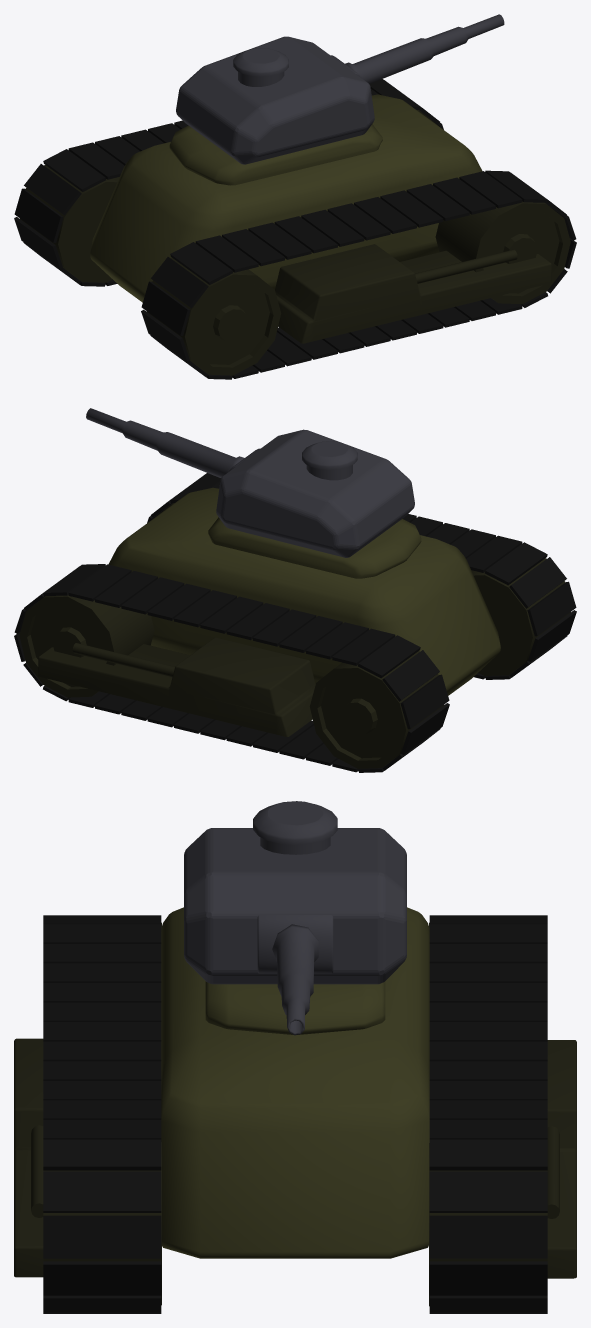
Rendered from Tank.FBX.
3 views of the same model, one above another, from view 1: azimuth 30°, elevation 25°; view 2: azimuth 150°, elevation 25°; view 3: azimuth 270°, elevation 25° (orthographic). The views are drawn at different scales.
Parts seen in each view (by area): view 1: Line030, Line031, Line032, Line028; view 2: Line030, Line031, Line032, Line028; view 3: Line032, Line031, Line028, Line030.
Boxes of the visible parts, x1,y1,x2,y2 form: Line030: [20, 110, 570, 375]; Line031: [90, 94, 482, 302]; Line032: [14, 79, 576, 379]; Line028: [176, 14, 504, 164]; Line030: [19, 503, 570, 768]; Line031: [108, 487, 500, 695]; Line032: [14, 473, 576, 772]; Line028: [86, 408, 414, 557]; Line032: [43, 915, 547, 1313]; Line031: [161, 907, 429, 1258]; Line028: [184, 801, 406, 1035]; Line030: [14, 922, 576, 1306].
Size of the model in its own units: 2286 by 1807 by 1270.
